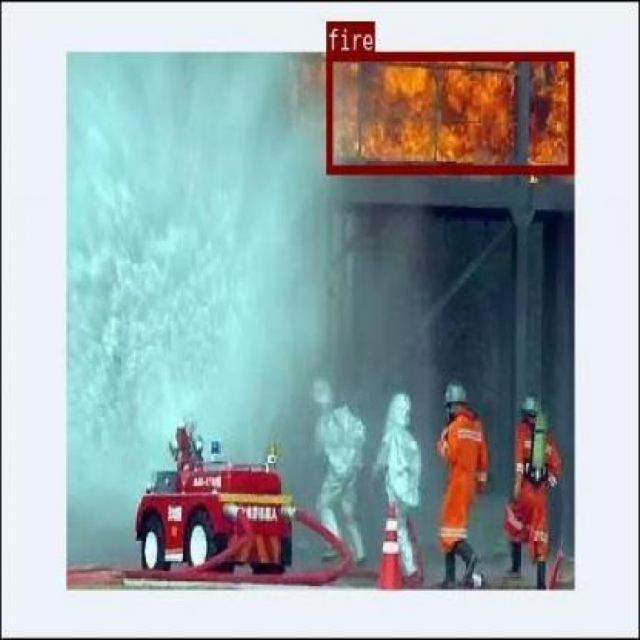fire: (325, 52, 573, 172)
